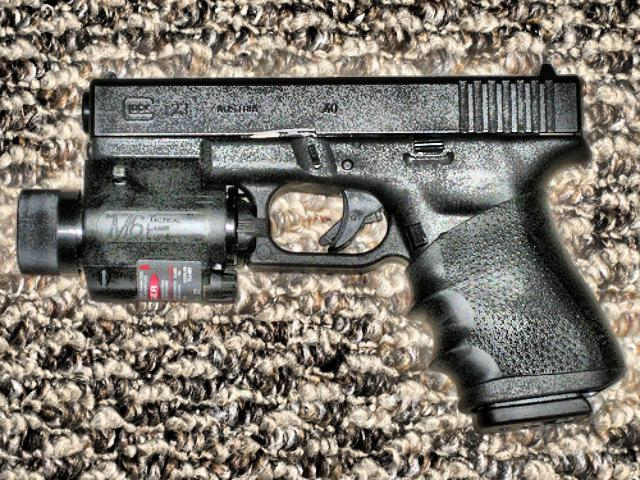pistol: (13, 63, 619, 435)
